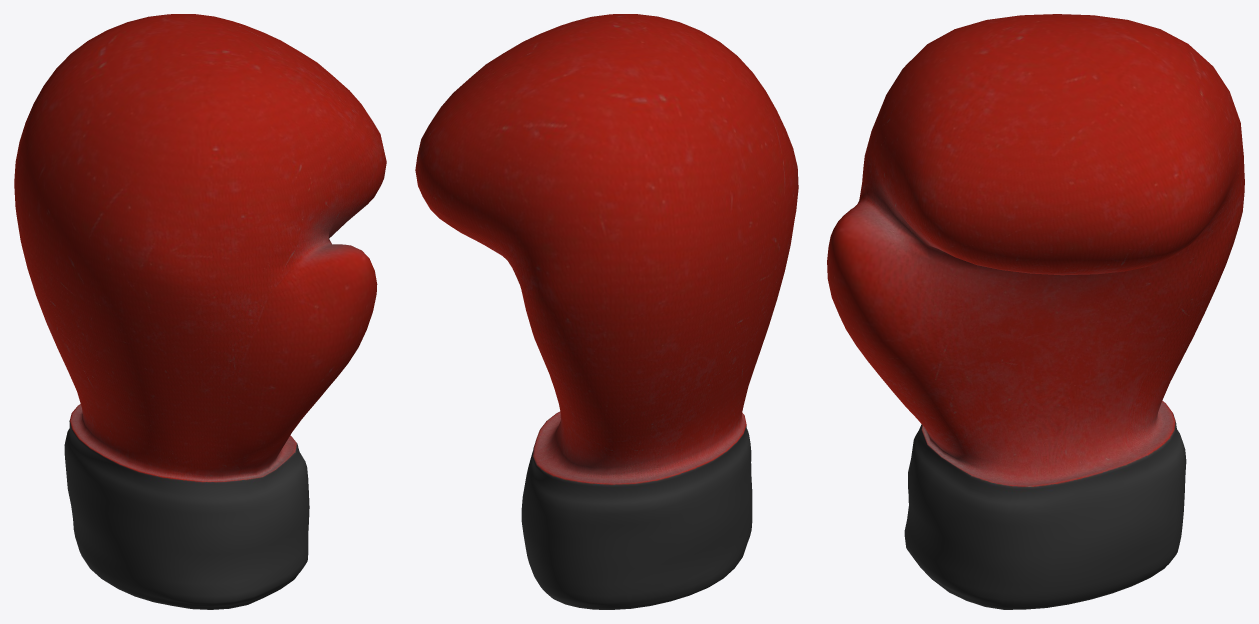
The picture shows the model from 3 angles, left to right: view 1: azimuth 30°, elevation 25°; view 2: azimuth 150°, elevation 25°; view 3: azimuth 270°, elevation 25°; orthographic projection. The views are drawn at different scales.
Parts seen in each view (by area): view 1: Glove_0; view 2: Glove_0; view 3: Glove_0.
Boxes of the visible parts, x1,y1,x2,y2 form: Glove_0: (14,14,386,609); Glove_0: (415,14,798,609); Glove_0: (827,14,1244,609).
Bounding box in the file's own units: 6.02 × 9.99 × 6.98.
Materials: 1 (1 with a texture image).
